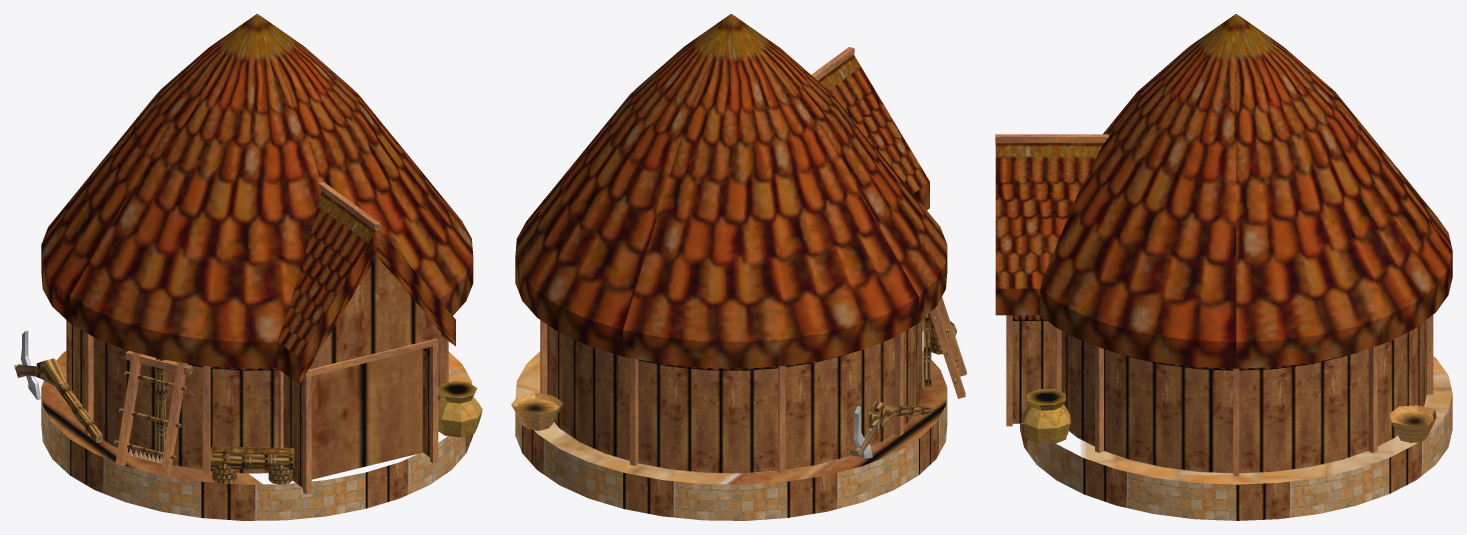
Rendered from house_a.dae.
The picture shows the model from 3 angles, left to right: view 1: azimuth 30°, elevation 25°; view 2: azimuth 150°, elevation 25°; view 3: azimuth 270°, elevation 25°; orthographic projection.
Parts seen in each view (by area): view 1: house_a; view 2: house_a; view 3: house_a.
Boxes of the visible parts, x1,y1,x2,y2 form: house_a: [14, 14, 482, 520]; house_a: [511, 14, 966, 520]; house_a: [995, 14, 1452, 520].
Bounding box in the file's own units: 12.64 × 13.33 × 13.35.
